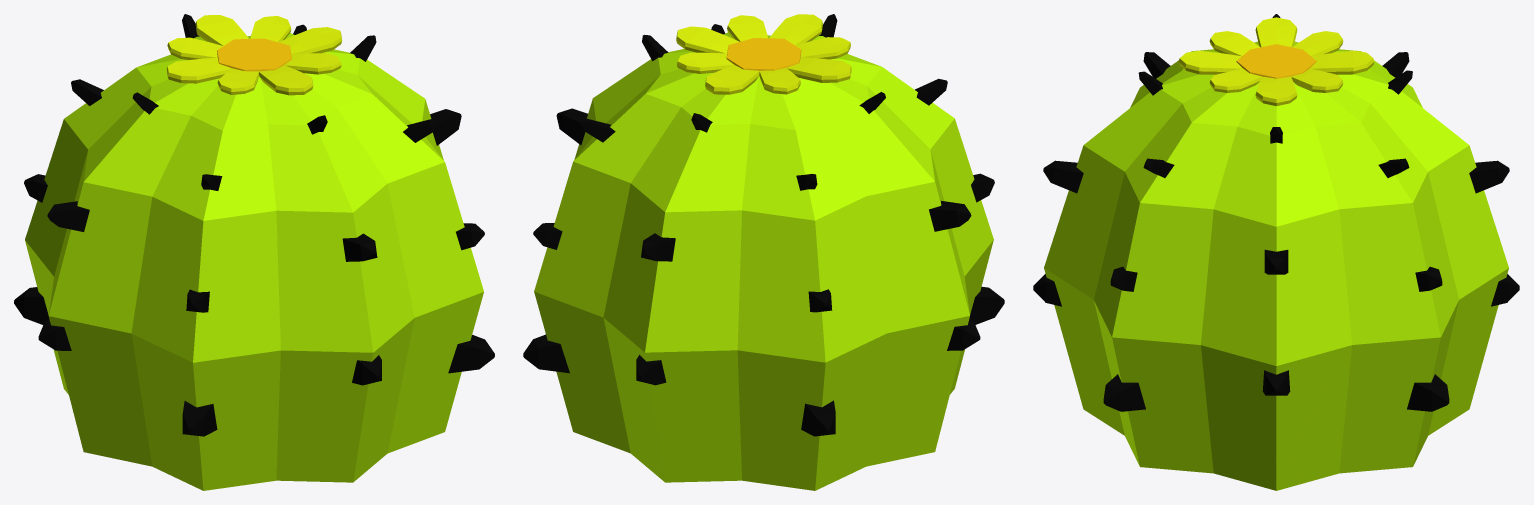
Rendered from Cardon06_00Brazos_Flor_Amarilla.fbx.
The picture shows the model from 3 angles, left to right: view 1: azimuth 30°, elevation 25°; view 2: azimuth 150°, elevation 25°; view 3: azimuth 270°, elevation 25°; orthographic projection. The views are drawn at different scales.
Visible parts, largest first — view 1: Cactus, Espinas, Flor_Amarilla; view 2: Cactus, Espinas, Flor_Amarilla; view 3: Cactus, Espinas, Flor_Amarilla.
Part boxes in pixels (x1,y1,x2,y2): Cactus: [25, 33, 483, 490]; Espinas: [14, 14, 494, 436]; Flor_Amarilla: [166, 15, 342, 95]; Cactus: [534, 32, 993, 490]; Espinas: [523, 14, 1004, 436]; Flor_Amarilla: [676, 14, 851, 94]; Cactus: [1044, 41, 1508, 490]; Espinas: [1033, 14, 1519, 411]; Flor_Amarilla: [1178, 17, 1374, 105].
Bounding box in the file's own units: 47.77 × 38.08 × 47.77.
